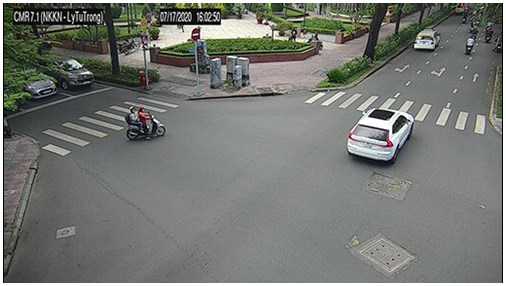di_bo: (288, 28, 300, 54)
xe_hoi: (346, 108, 415, 167), (52, 58, 95, 92), (18, 67, 57, 100)
xe_may: (126, 105, 166, 139), (116, 34, 141, 56), (307, 32, 323, 49), (465, 35, 474, 57), (484, 24, 493, 45), (469, 22, 479, 38), (461, 8, 469, 24)
xe_taxi: (413, 29, 441, 51)
